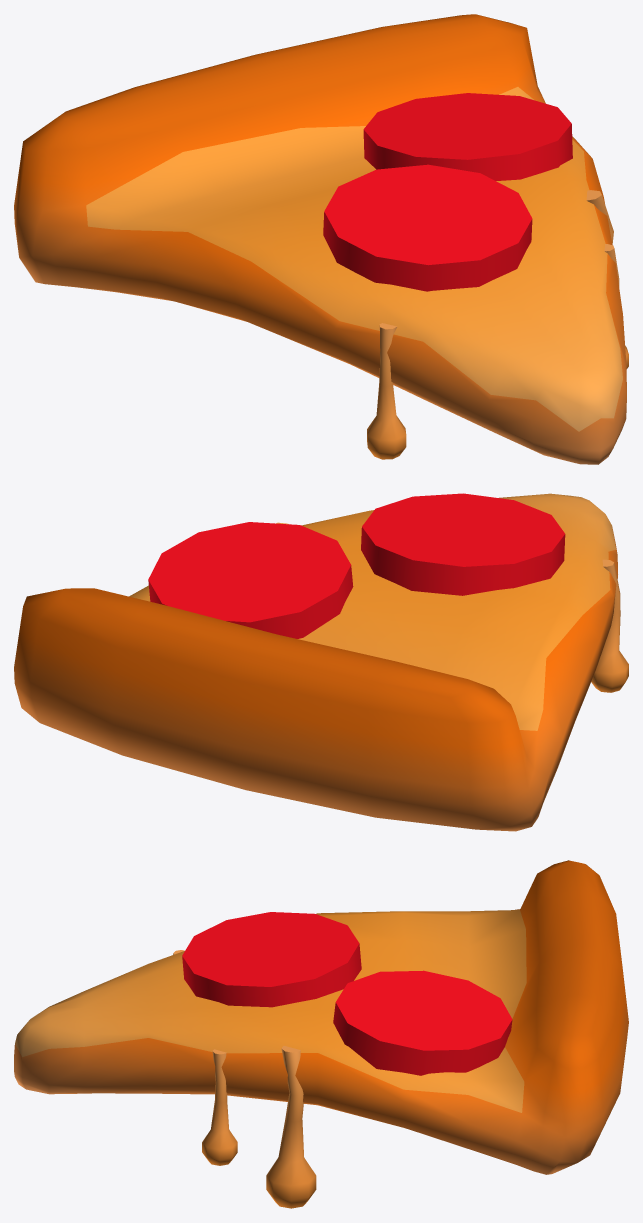
File: Collectable_Pizza_01.fbx
3 renders of one model, top to bottom at view 1: azimuth 30°, elevation 25°; view 2: azimuth 150°, elevation 25°; view 3: azimuth 270°, elevation 25°, orthographic. The views are drawn at different scales.
Parts seen in each view (by area): view 1: Collectable_Pizza_01; view 2: Collectable_Pizza_01; view 3: Collectable_Pizza_01.
Part boxes in pixels (x1,y1,x2,y2): Collectable_Pizza_01: (14,14,628,464); Collectable_Pizza_01: (14,493,628,831); Collectable_Pizza_01: (14,860,628,1208).
Bounding box in the file's own units: 73.67 × 30.49 × 87.68.
1 material, 1 textured.
